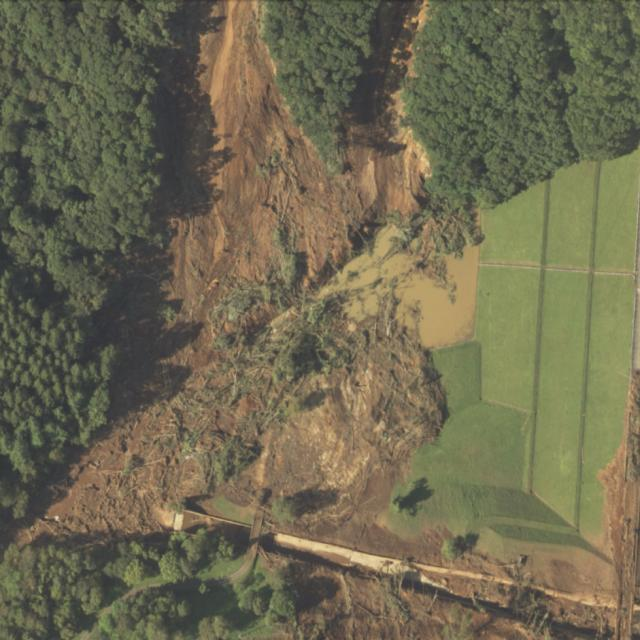landslide: (29, 0, 445, 558)
